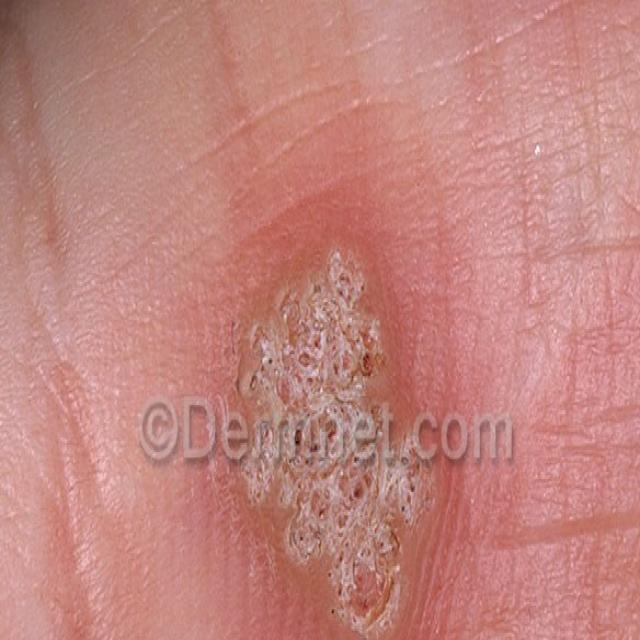Warts: (218, 202, 436, 640)
